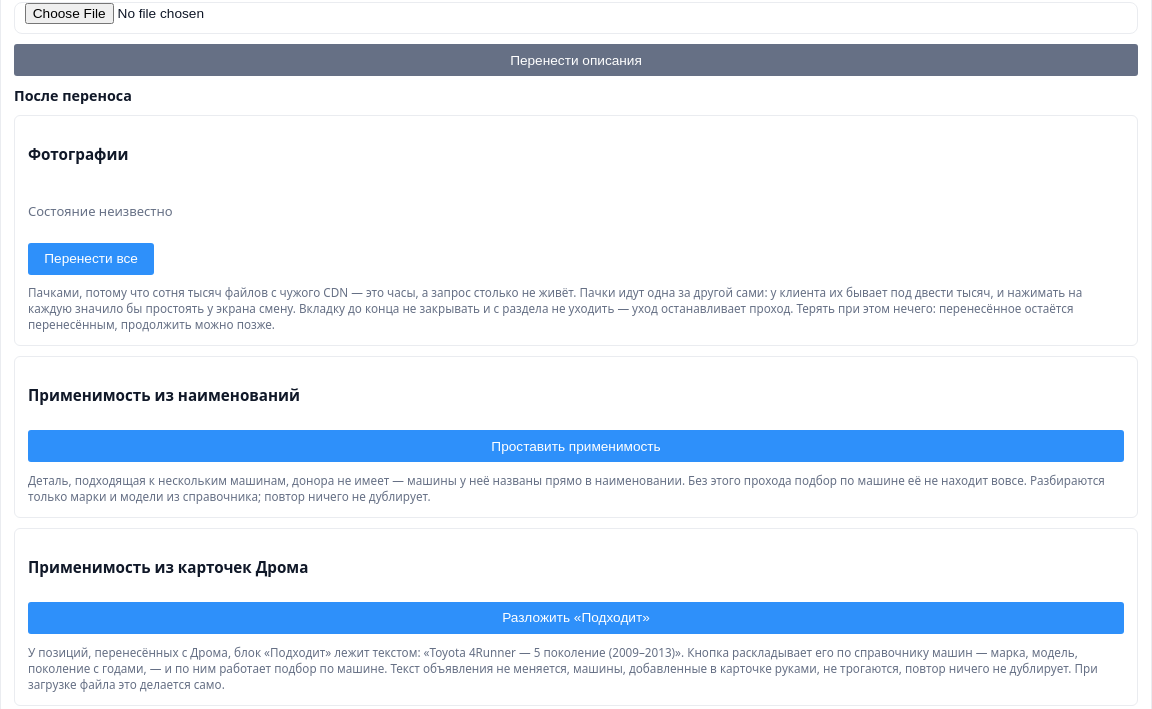
Test case: применимость из карточек Дрома › зовёт свой путь и называет итог словами, с причинами и названиями
The width and height of the screenshot is (1152, 709).
(page scrolled)
Click the button "Разложить «Подходит»" at (576, 618), box top-left (28, 602), bottom-right (1124, 634)
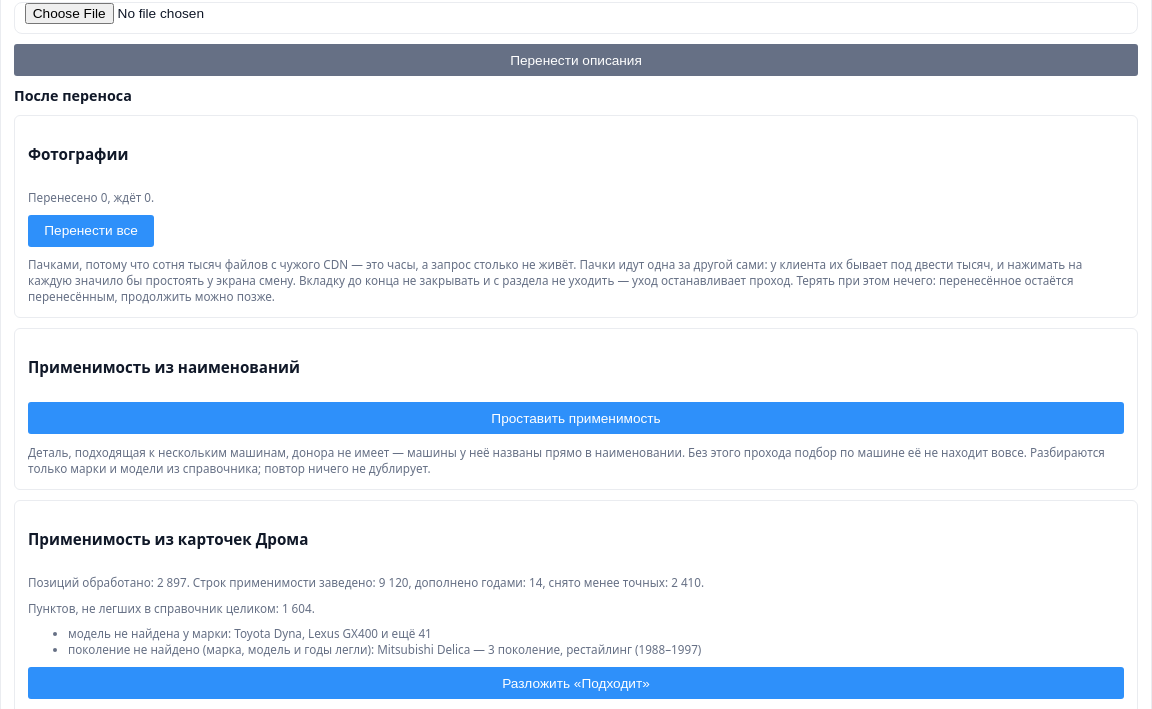
Now the text "Позиций обработано: 2 897." is shown, box top-left (28, 574), bottom-right (704, 590)
Now the text "Строк применимости заведено: 9 120, дополнено годами: 14, снято менее точных: 2 410." is shown, box top-left (28, 574), bottom-right (704, 590)
Now the text "Пунктов, не легших в справочник целиком: 1 604." is shown, box top-left (28, 600), bottom-right (315, 616)
